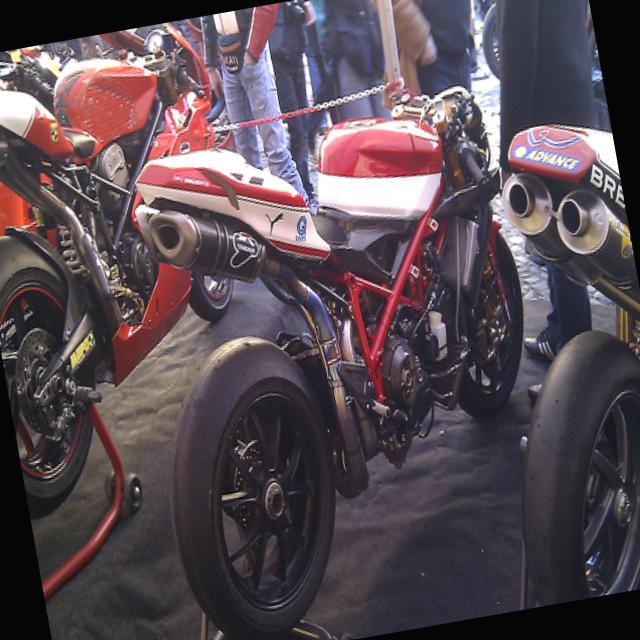Vehicle: (107, 71, 579, 640), (0, 22, 271, 503), (450, 111, 640, 607), (0, 44, 57, 121), (0, 136, 34, 232)
